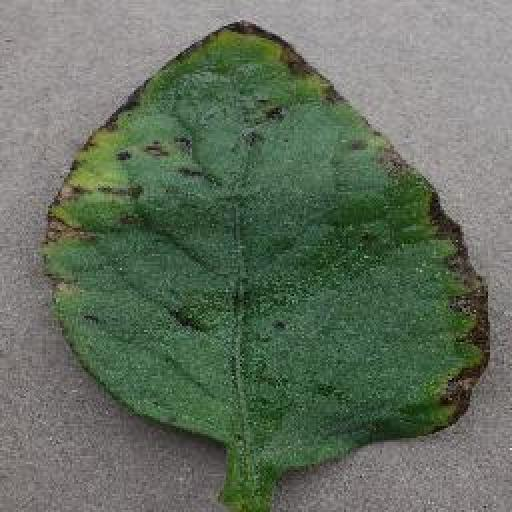Bacterial Spot: (40, 9, 495, 472)
